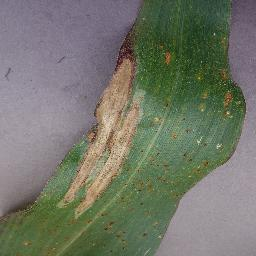Corn_Blight: (89, 11, 152, 143), (56, 143, 134, 223), (171, 130, 212, 199), (0, 175, 45, 224), (136, 144, 172, 204), (216, 66, 237, 120), (217, 24, 241, 64), (216, 135, 244, 168), (100, 226, 130, 256), (198, 89, 214, 112), (159, 40, 172, 66), (191, 66, 208, 84), (20, 239, 36, 249), (154, 113, 164, 128), (141, 232, 152, 241)
